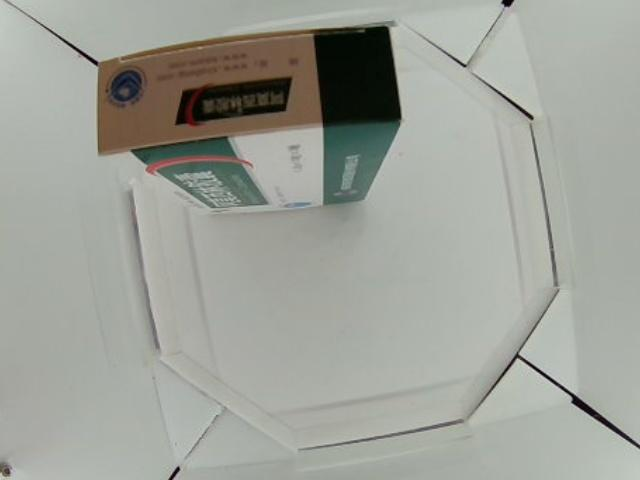Medicine: (96, 27, 401, 211)
